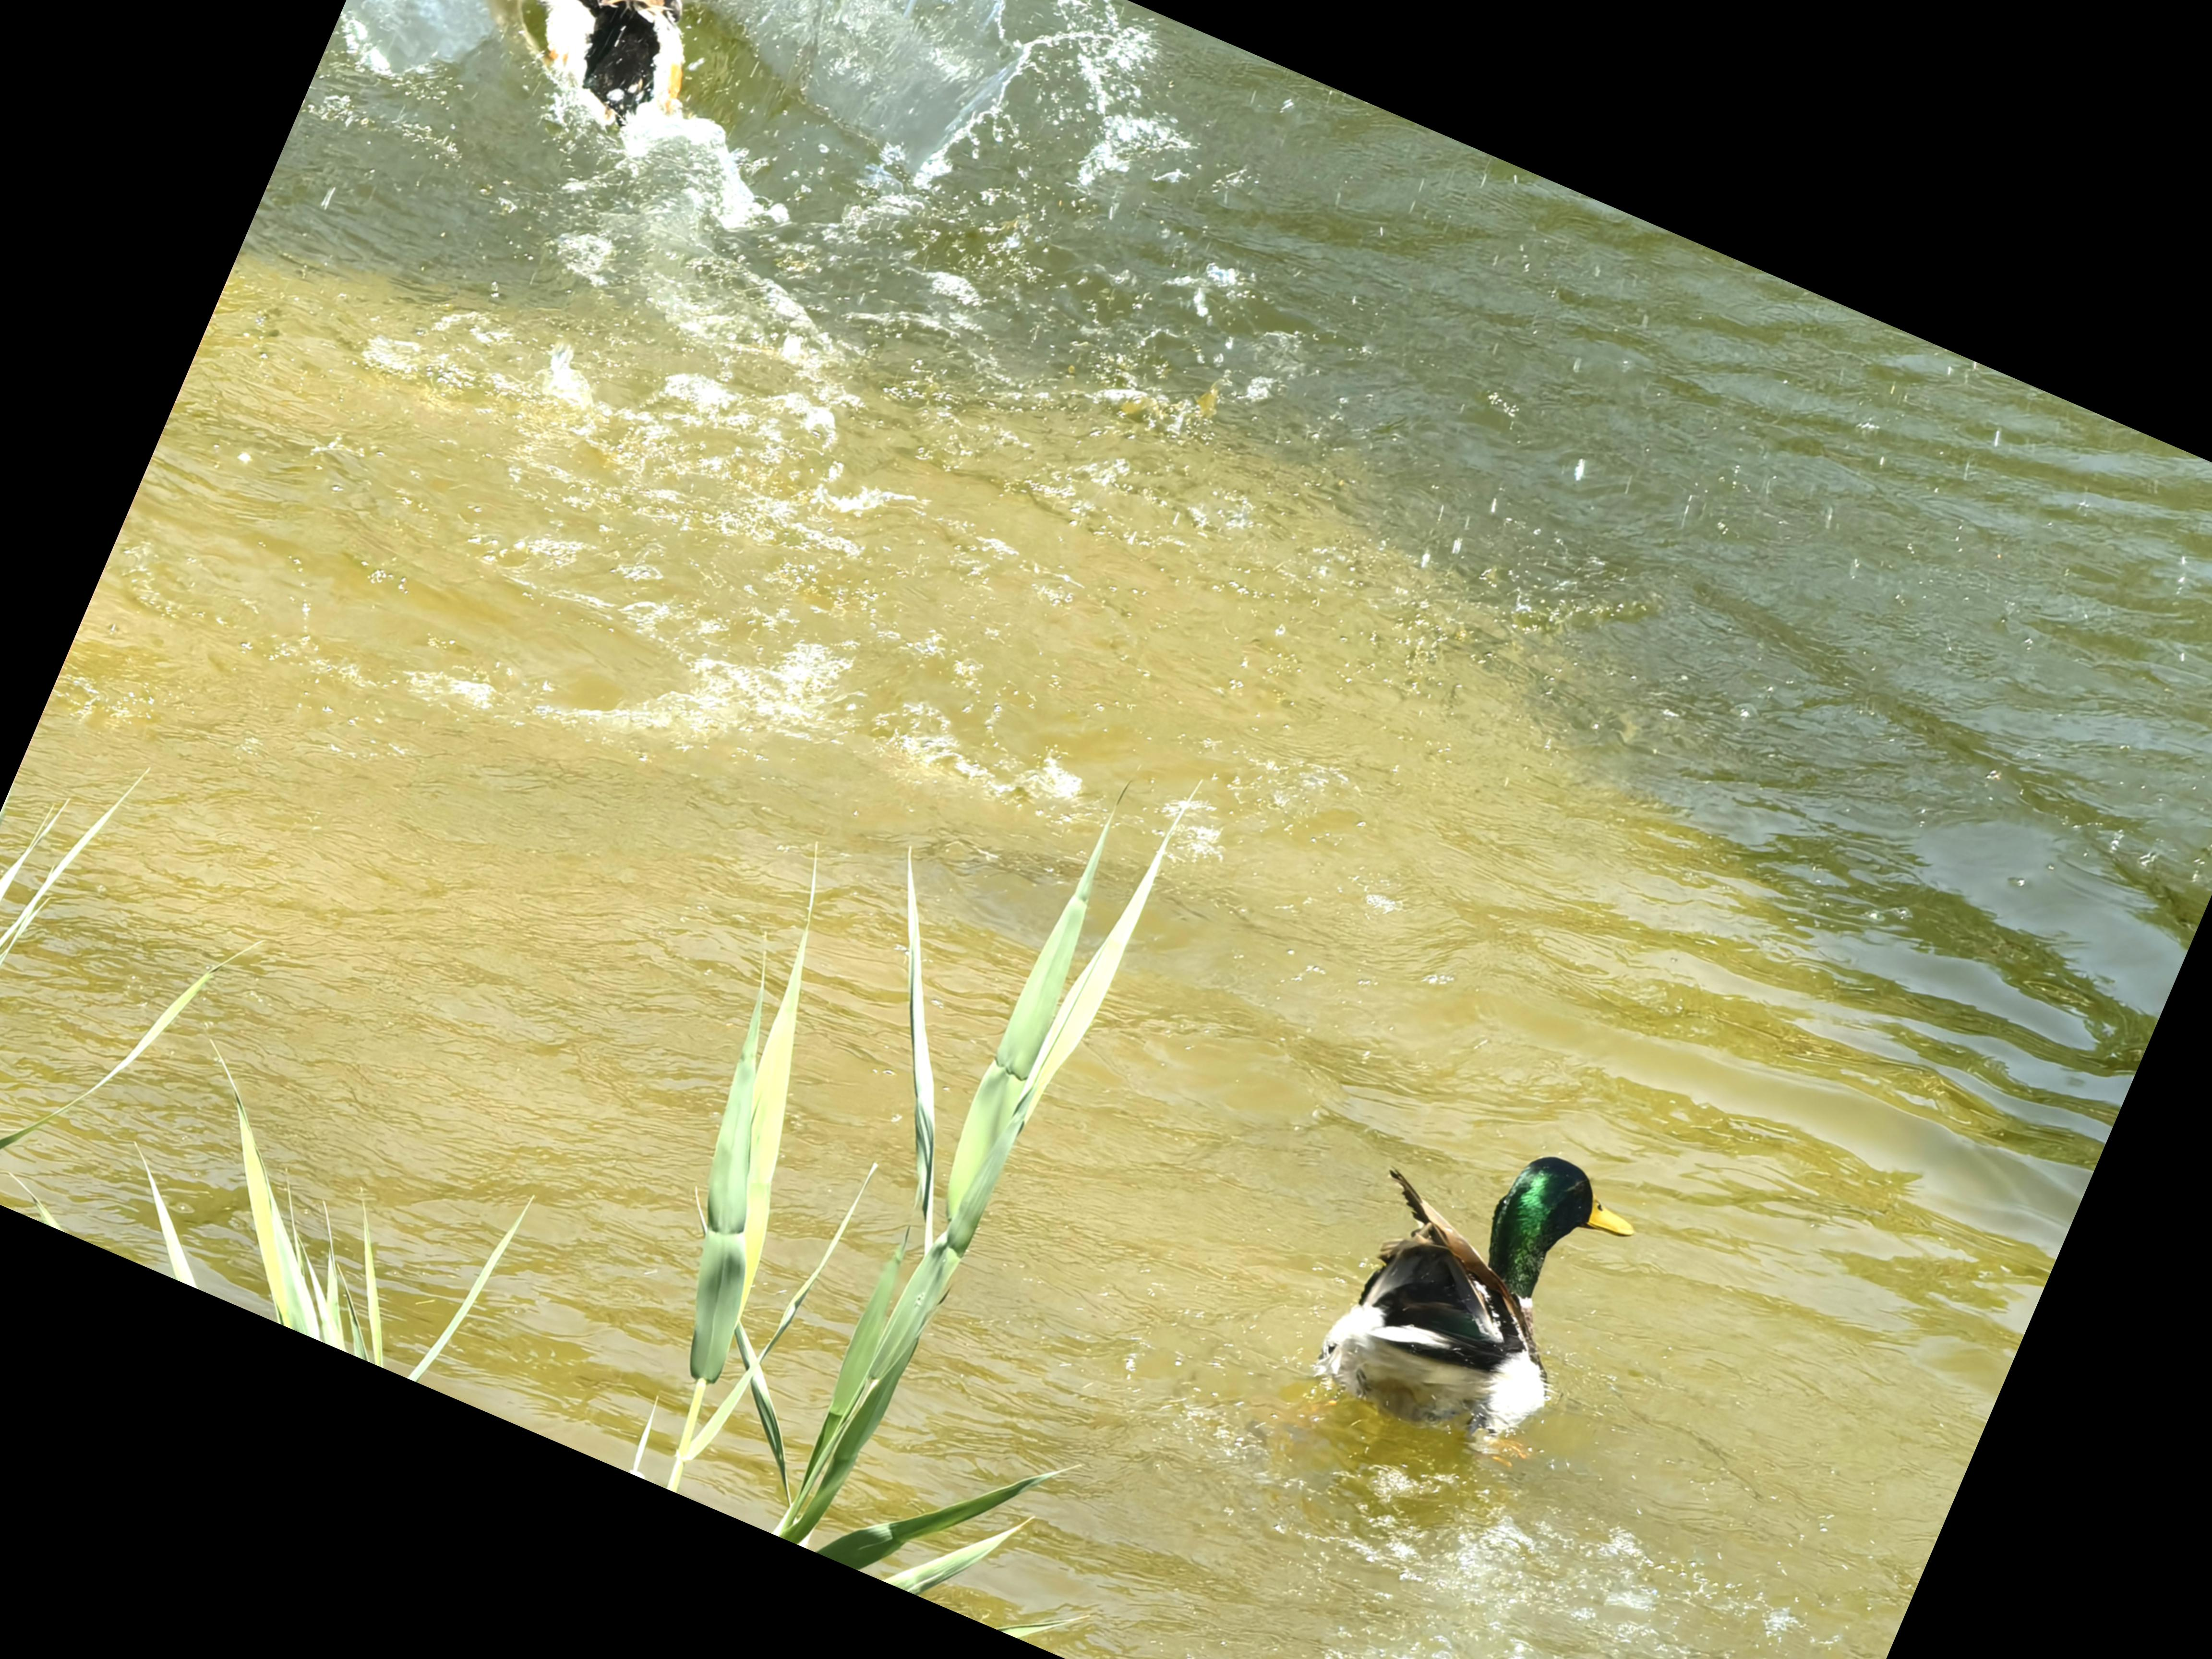duck: (1237, 1044, 1714, 1534)
